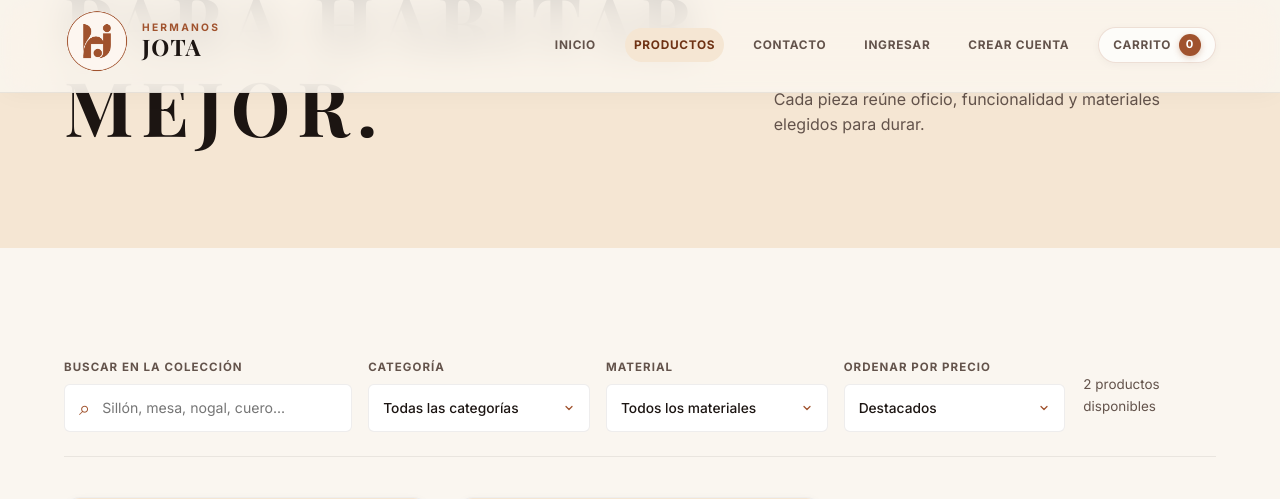
Test case: limpia los filtros activos y restablece la lista completa
This screenshot has width=1280, height=499.
(page scrolled)
Select "Bibliotecas" in the dropdown labelled "Categoría" at [479, 408], box [368, 384, 590, 432]
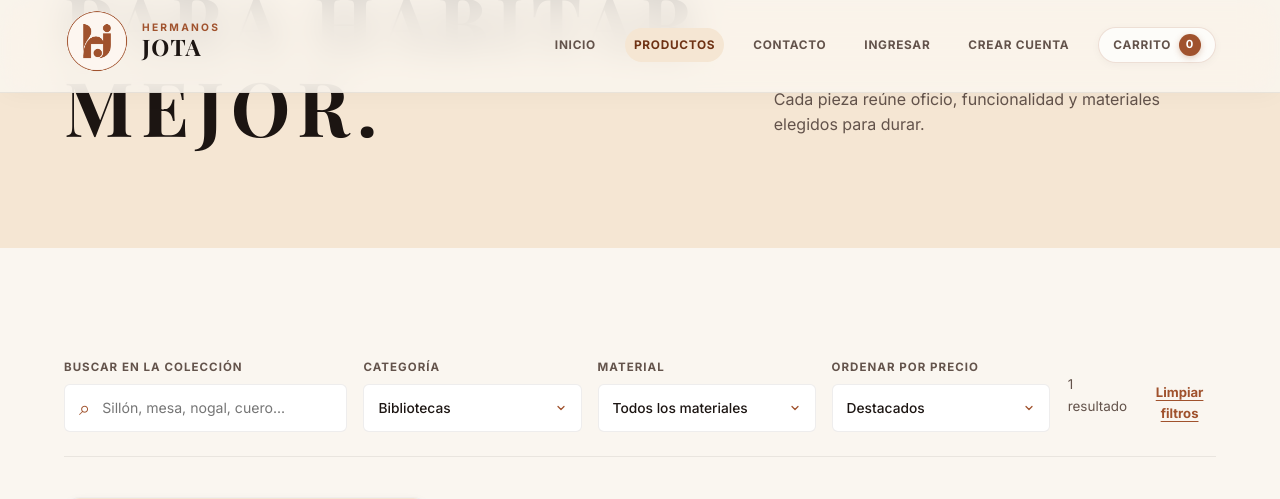
Click the button "Limpiar filtros" at [1180, 403], box [1143, 382, 1216, 424]
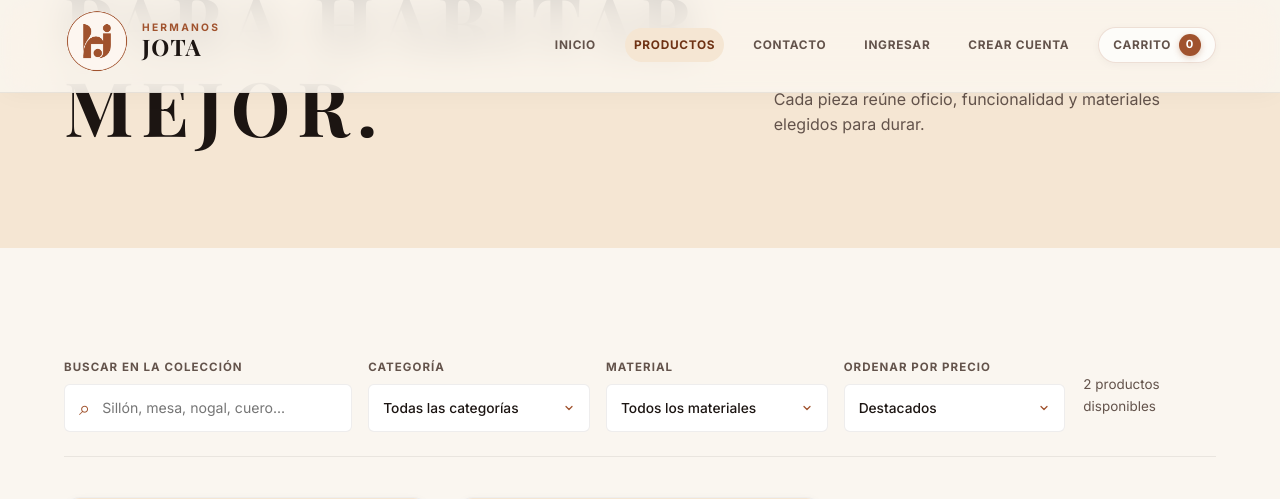
Expected: the text "2 productos disponibles" is shown, [1083, 376, 1160, 414]
